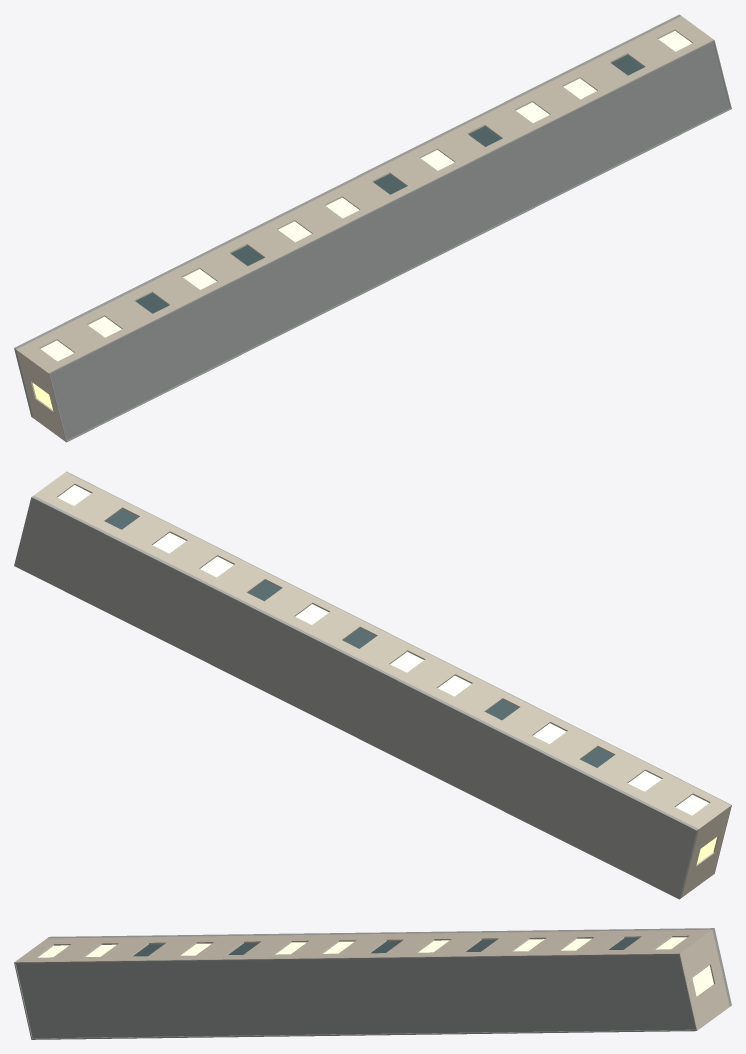
File: commercial-mid.glb
The picture shows the model from 3 angles, top to bottom: view 1: azimuth 30°, elevation 25°; view 2: azimuth 150°, elevation 25°; view 3: azimuth 330°, elevation 25°; orthographic projection.
Parts seen in each view (by area): view 1: way/502015082; view 2: way/502015082; view 3: way/502015082.
Part boxes in pixels (x1=…): way/502015082: x1=14, y1=14, x2=731, y2=442; way/502015082: x1=14, y1=471, x2=731, y2=899; way/502015082: x1=14, y1=928, x2=731, y2=1039.
Bounding box in the file's own units: 112 × 38.2 × 9.96.
